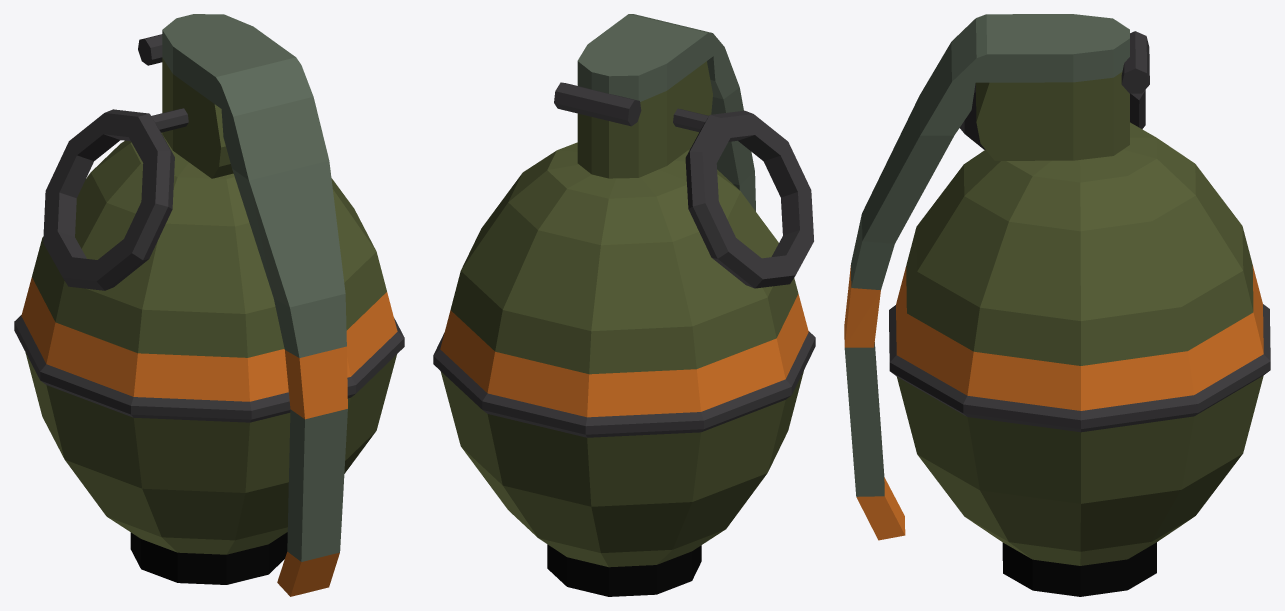
Rendered from SM_Granade_01.glb.
3 renders of one model, left to right at view 1: azimuth 30°, elevation 25°; view 2: azimuth 150°, elevation 25°; view 3: azimuth 270°, elevation 25°, orthographic. The views are drawn at different scales.
Visible parts, largest first — view 1: SM_Granade_01; view 2: SM_Granade_01; view 3: SM_Granade_01.
Part boxes in pixels (box(x1,y1,x2,y2)): SM_Granade_01: box(14, 14, 404, 596); SM_Granade_01: box(433, 14, 815, 596); SM_Granade_01: box(844, 14, 1270, 596).
Size of the model in its own units: 0.1526 by 0.2223 by 0.1624.
Materials: 1 (1 with a texture image).
